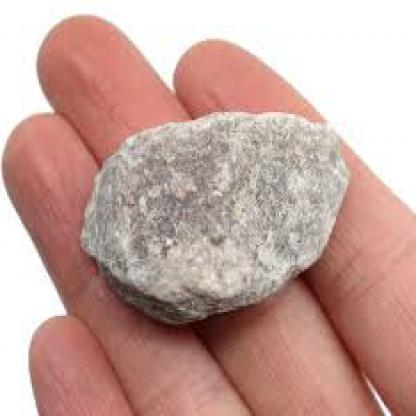Metamorphic_Quartize: (78, 108, 348, 318)
